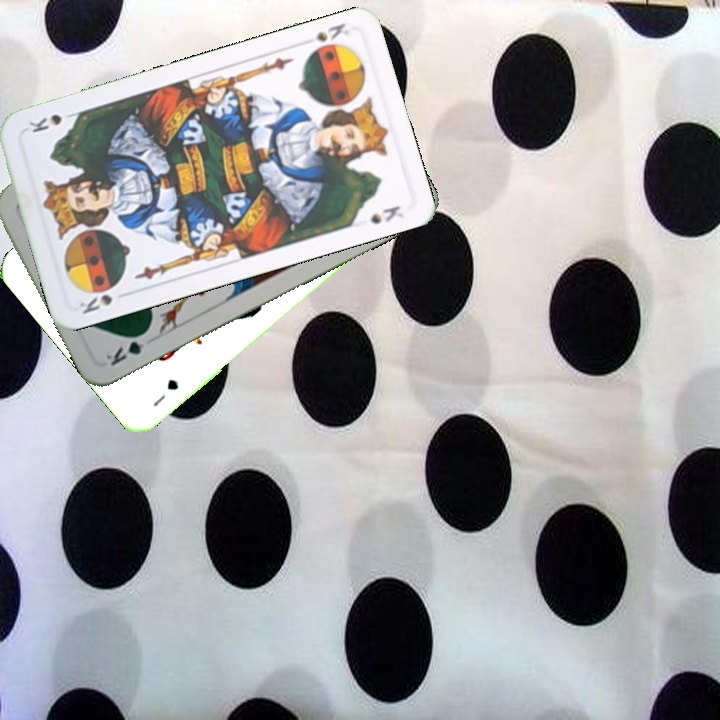GK: (102, 327, 152, 369)
GU: (149, 375, 181, 410)
SK: (304, 18, 352, 57), (75, 290, 116, 317)
